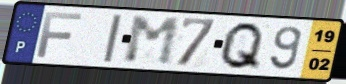7: (175, 16, 219, 69)
9: (269, 25, 304, 71)
F: (35, 11, 85, 59)
I: (101, 13, 125, 64)
M: (123, 15, 182, 68)
Q: (217, 20, 267, 72)
